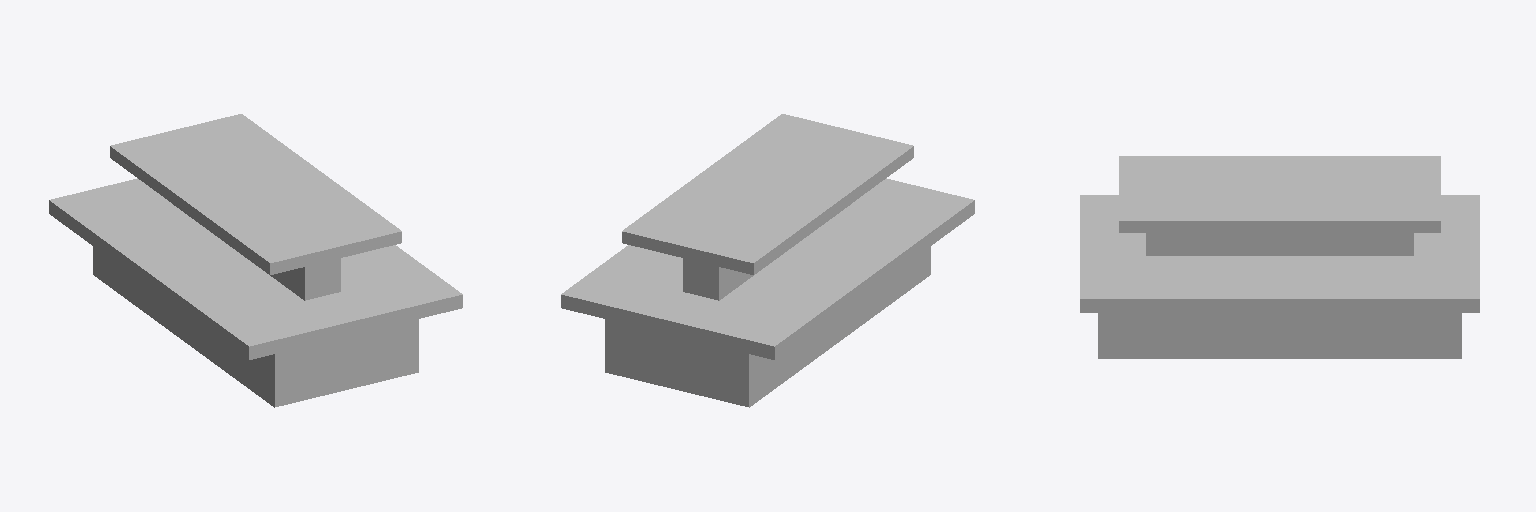
The model's file is store_shelving_2.obj.
3 views of the same model, side by side, from view 1: azimuth 30°, elevation 25°; view 2: azimuth 150°, elevation 25°; view 3: azimuth 270°, elevation 25° (orthographic).
Visible parts, largest first — view 1: Cube.019; view 2: Cube.019; view 3: Cube.019.
Part boxes in pixels (bbox=[...]): Cube.019: bbox=[49, 114, 462, 407]; Cube.019: bbox=[561, 114, 974, 407]; Cube.019: bbox=[1080, 156, 1479, 358].
Bounding box in the file's own units: 6.38 × 3.85 × 10.35.